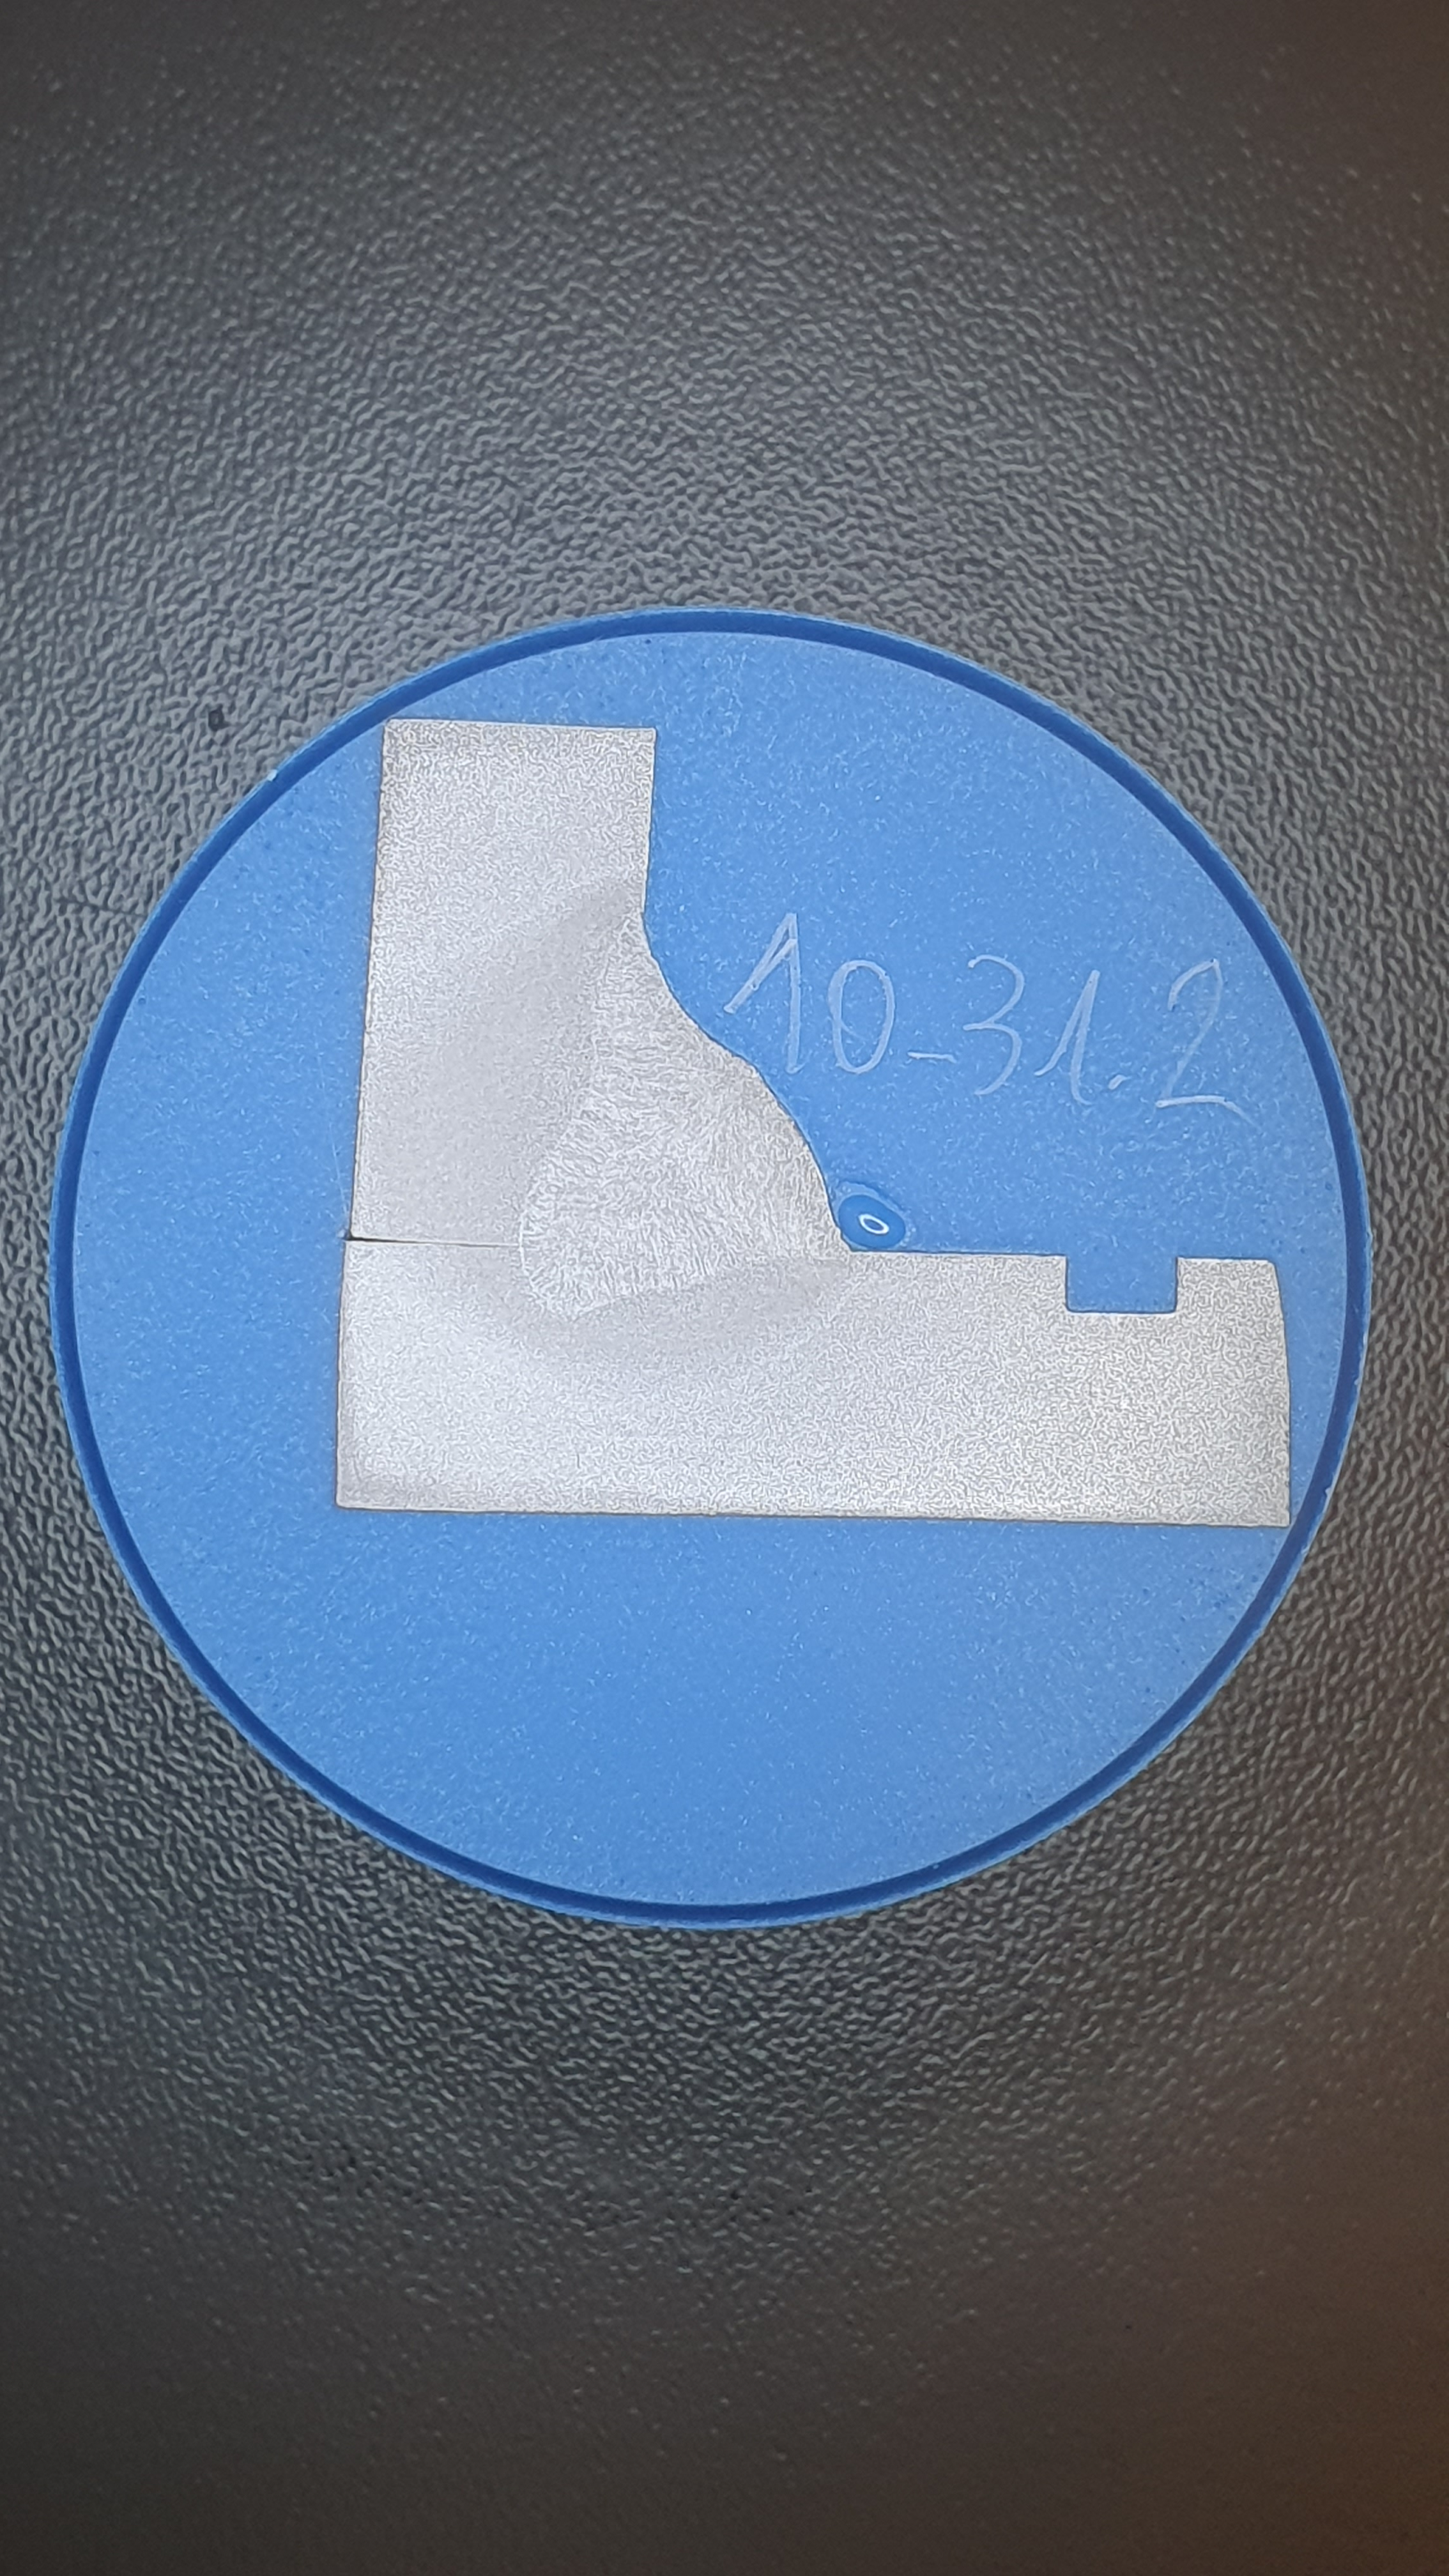Fusion: (518, 909, 849, 1316)
Hintergrund: (76, 630, 1345, 1904)
Metall: (334, 718, 1290, 1527)
Nebenbereich: (373, 863, 876, 1376)
